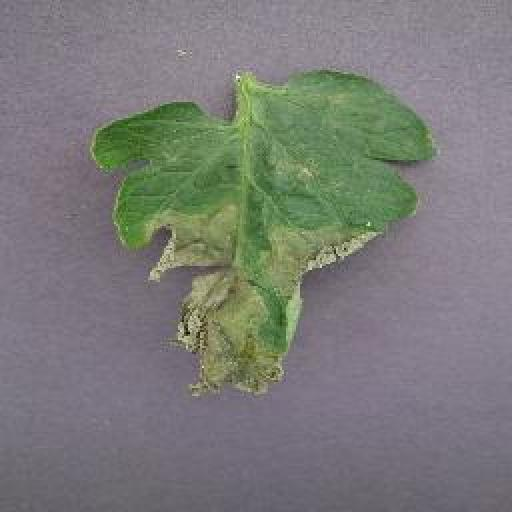disease_tomato: (93, 72, 440, 399)
